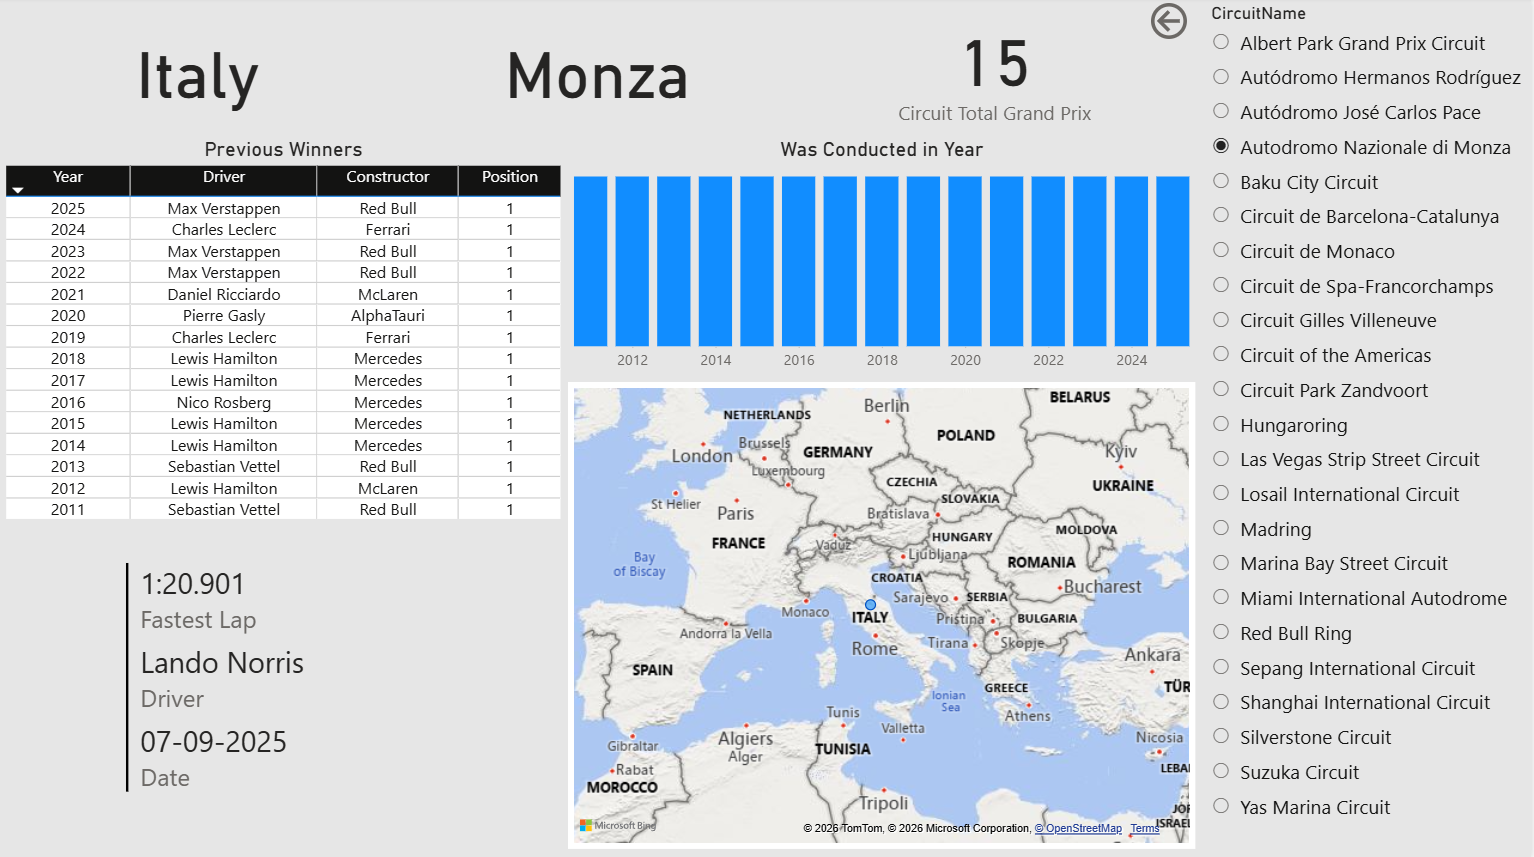

Layout of this report page (visuals, bound fields, positions):
{"tool":"powerbi","page":{"name":"Circuits","canvas":[1280,720],"ordinal":5},"visuals":[{"type":"slicer","fields":{"Values":["Circuits.CircuitName"]},"box":[1000,0,280,720],"z":0},{"type":"tableEx","title":"Previous Winners","fields":{"Values":["Races.date.Variation.Date Hierarchy.Year","Drivers.DriverName","Constructors.ConstructorName","Results.positionOrder"]},"box":[0,116.9,475.3,342.8],"z":1000},{"type":"map","fields":{"Category":["Circuits.country"]},"box":[475.3,321.7,524.2,389.6],"z":2000},{"type":"card","fields":{"Values":["_Measures.Circuit Total Grand Prix"]},"box":[665,0,333.6,116.9],"z":3000},{"type":"card","fields":{"Values":["Min(Circuits.country)"]},"box":[0,0,333,117.1],"z":4000},{"type":"card","fields":{"Values":["Min(Circuits.location)"]},"box":[333.5,0,333.5,117.1],"z":5000},{"type":"columnChart","title":"Was Conducted in Year","fields":{"Category":["Seasons.year"],"Y":["Count(Races.round)"]},"box":[475.3,116.9,524.2,204.8],"z":6000},{"type":"multiRowCard","fields":{"Values":["_Measures.Circuits26 Fastest Lap Time","_Measures.Circuits26 Fastest Lap Driver","_Measures.Circuits26 Fastest Lap Date"]},"box":[101.3,467.5,232.6,205.9],"z":7000},{"type":"actionButton","box":[957.2,0,42.3,40.1],"z":8000}]}

Visuals, with their boxes in screenshot pixels (x1, y1, x2, y2), scaled from the page's 1280x720 canvas onto the 1534x857 screenshot:
slicer - Circuits.CircuitName: [left=1198, top=0, right=1533, bottom=856]
"Previous Winners" tableEx: [left=0, top=139, right=570, bottom=547]
map - Circuits.country: [left=570, top=383, right=1198, bottom=847]
card - _Measures.Circuit Total Grand Prix: [left=797, top=0, right=1197, bottom=139]
card - Min(Circuits.country): [left=0, top=0, right=399, bottom=139]
card - Min(Circuits.location): [left=400, top=0, right=799, bottom=139]
"Was Conducted in Year" columnChart: [left=570, top=139, right=1198, bottom=383]
multiRowCard - _Measures.Circuits26 Fastest Lap Time x _Measures.Circuits26 Fastest Lap Driver: [left=121, top=556, right=400, bottom=802]
actionButton: [left=1147, top=0, right=1198, bottom=48]
